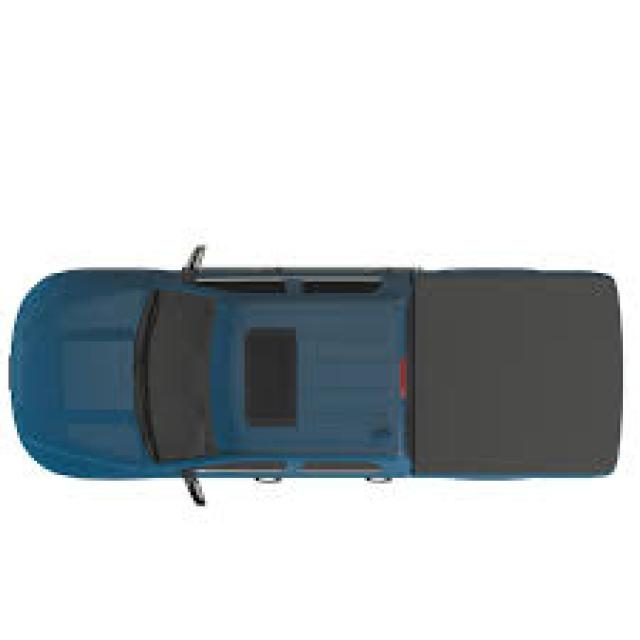truck: (16, 262, 624, 482)
